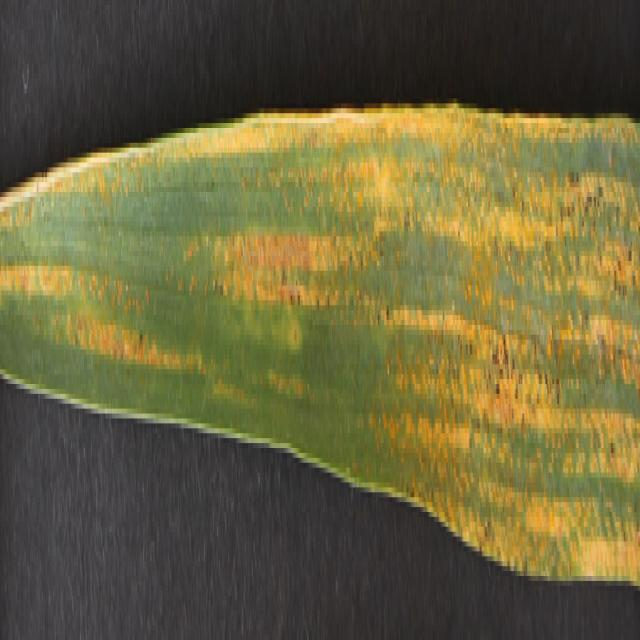leaf rust: (0, 103, 640, 556)
